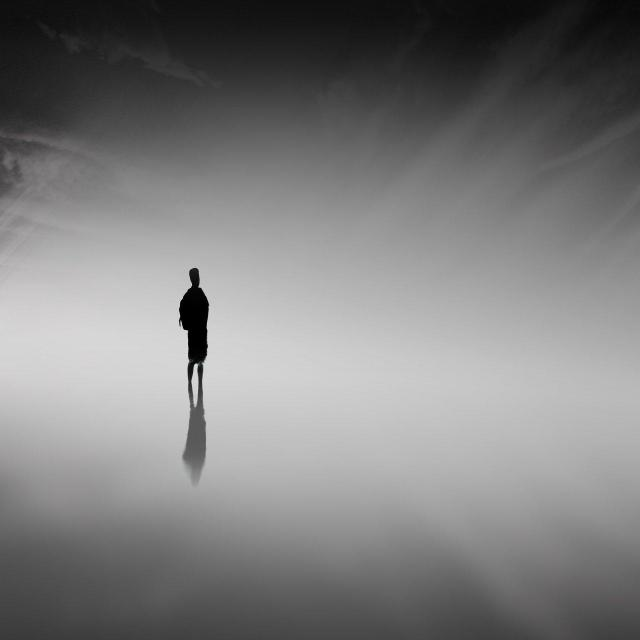person: (127, 227, 245, 457)
